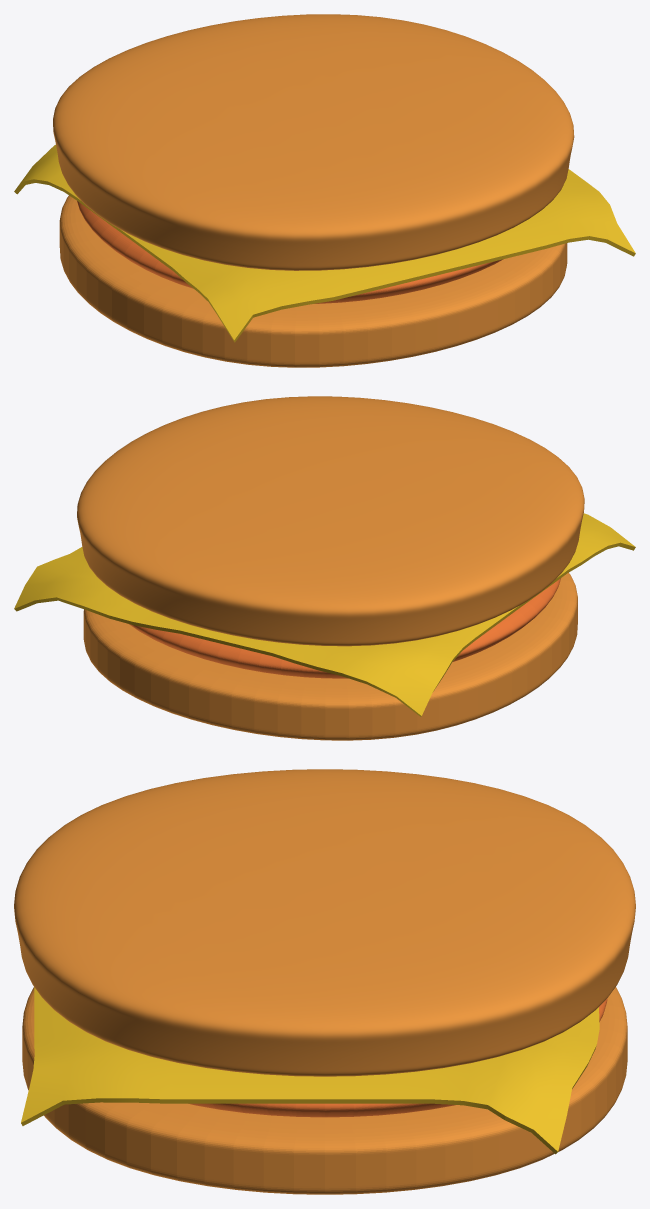
Rendered from hamburger.glb.
3 views of the same model, one above another, from view 1: azimuth 30°, elevation 25°; view 2: azimuth 150°, elevation 25°; view 3: azimuth 270°, elevation 25° (orthographic). The views are drawn at different scales.
Visible parts, largest first — view 1: 立方体.002, 立方体, 平面, 立方体.001; view 2: 立方体.002, 立方体, 平面, 立方体.001; view 3: 立方体.002, 立方体, 平面, 立方体.001.
Part boxes in pixels (x1,y1,x2,y2): 立方体.002: [53, 14, 574, 270]; 立方体: [59, 195, 567, 367]; 平面: [14, 144, 635, 342]; 立方体.001: [77, 201, 503, 303]; 立方体.002: [77, 396, 584, 646]; 立方体: [83, 572, 577, 740]; 平面: [14, 513, 635, 716]; 立方体.001: [129, 578, 560, 678]; 立方体.002: [14, 769, 635, 1076]; 立方体: [22, 987, 627, 1194]; 平面: [21, 987, 599, 1154]; 立方体.001: [188, 998, 607, 1117].
Bounding box in the file's own units: 9.45 × 3.3 × 9.28.
